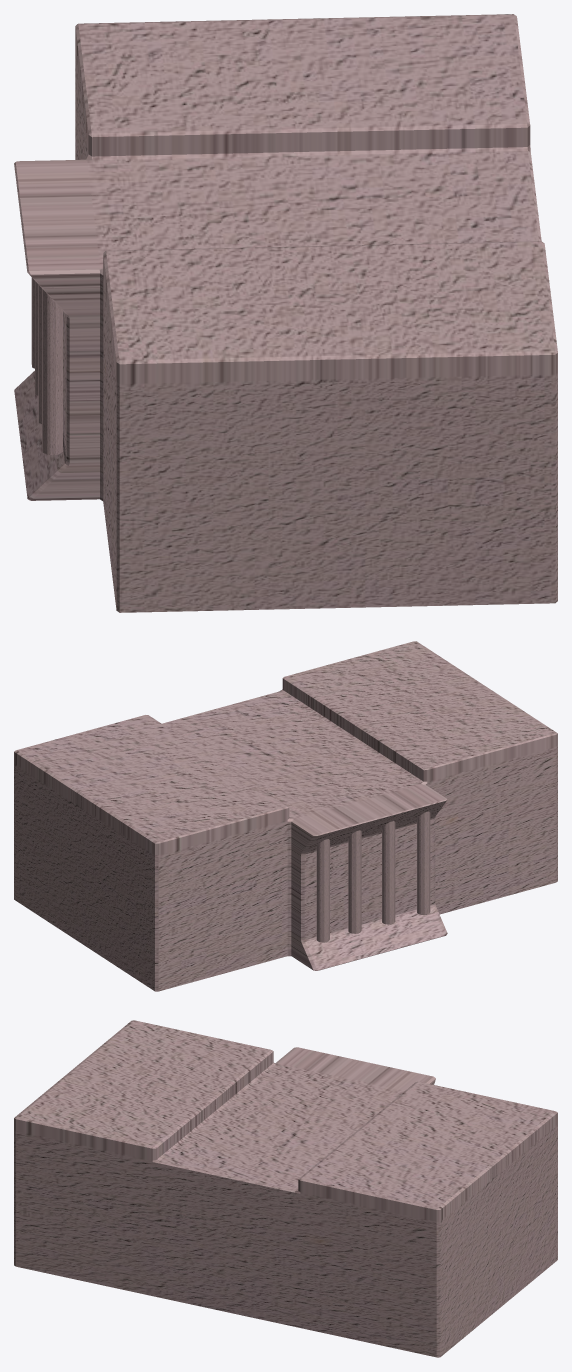
The model's file is BellasArtes-OLD.gltf.
The picture shows the model from 3 angles, top to bottom: view 1: azimuth 30°, elevation 25°; view 2: azimuth 150°, elevation 25°; view 3: azimuth 270°, elevation 25°; orthographic projection. The views are drawn at different scales.
Visible parts, largest first — view 1: BellasArtes; view 2: BellasArtes; view 3: BellasArtes.
Boxes of the visible parts, bbox=[...] form: BellasArtes: bbox=[14, 14, 557, 612]; BellasArtes: bbox=[14, 641, 557, 991]; BellasArtes: bbox=[14, 1020, 557, 1357].
Size of the model in its own units: 1.31 by 0.4793 by 1.58.
1 material, 1 textured.
